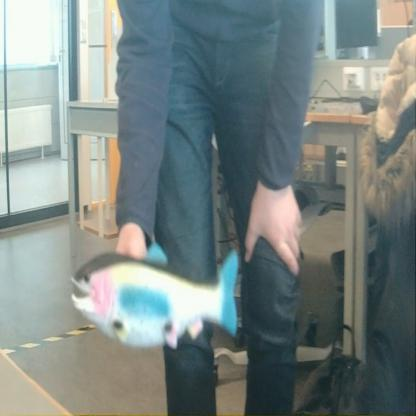rubberfish: (64, 234, 244, 352)
